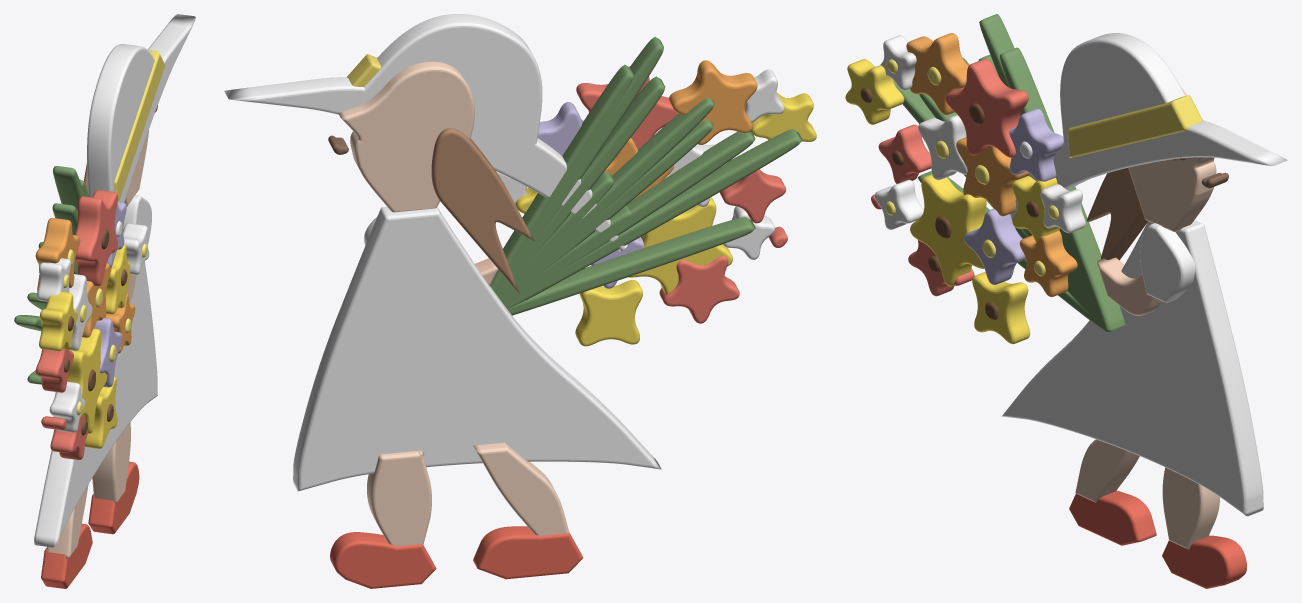
File: Girl.glb
3 views of the same model, side by side, from view 1: azimuth 30°, elevation 25°; view 2: azimuth 150°, elevation 25°; view 3: azimuth 270°, elevation 25° (orthographic). The views are drawn at different scales.
Visible parts, largest first — view 1: Girl_Dress, Girl_HatDome, Flower_2_Petals, Girl_HatBrim, Flower_3_Petals, Girl_LegFront, Flower_14_Petals, Girl_ShoeFront, Girl_HatBand, Girl_ShoeBack, Flower_7_Petals, Flower_6_Petals (+18 smaller); view 2: Girl_Dress, Girl_Face, Girl_HatDome, Girl_HatBrim, Girl_Hair, Stem_4, Girl_LegFront, Stem_3, Girl_ShoeFront, Girl_ShoeBack, Girl_LegBack, Stem_8 (+17 smaller); view 3: Girl_Dress, Girl_HatDome, Girl_HatBrim, Girl_Face, Flower_3_Petals, Flower_2_Petals, Girl_HatBand, Girl_ShoeBack, Girl_Sleeve, Girl_ShoeFront, Stem_6, Girl_LegFront (+21 smaller).
Boxes of the visible parts, <box> form: Girl_Dress: <box>34,261,157,547</box>; Girl_HatDome: <box>87,44,161,201</box>; Flower_2_Petals: <box>75,190,117,286</box>; Girl_HatBrim: <box>119,14,195,202</box>; Flower_3_Petals: <box>67,328,107,433</box>; Girl_LegFront: <box>92,422,130,503</box>; Flower_14_Petals: <box>39,291,77,351</box>; Girl_ShoeFront: <box>88,461,139,534</box>; Girl_HatBand: <box>114,50,165,201</box>; Girl_ShoeBack: <box>41,523,92,588</box>; Flower_7_Petals: <box>35,218,80,292</box>; Flower_6_Petals: <box>35,349,73,392</box>; Girl_Dress: <box>293,207,661,491</box>; Girl_Face: <box>338,61,474,212</box>; Girl_HatDome: <box>357,14,542,165</box>; Girl_HatBrim: <box>224,77,627,251</box>; Girl_Hair: <box>431,128,534,293</box>; Stem_4: <box>507,217,755,315</box>; Girl_LegFront: <box>367,449,431,546</box>; Stem_3: <box>505,129,802,308</box>; Girl_ShoeFront: <box>330,532,436,588</box>; Girl_ShoeBack: <box>473,526,583,579</box>; Girl_LegBack: <box>473,442,569,535</box>; Stem_8: <box>503,131,755,303</box>; Girl_Dress: <box>1001,220,1263,516</box>; Girl_HatDome: <box>1060,33,1185,165</box>; Girl_HatBrim: <box>1010,120,1287,219</box>; Girl_Face: <box>1128,88,1216,231</box>; Flower_3_Petals: <box>910,174,986,286</box>; Flower_2_Petals: <box>945,58,1028,157</box>; Girl_HatBand: <box>1068,95,1202,158</box>; Girl_ShoeBack: <box>1069,490,1156,545</box>; Girl_Sleeve: <box>1140,223,1195,302</box>; Girl_ShoeFront: <box>1162,535,1246,588</box>; Stem_6: <box>1000,47,1118,328</box>; Girl_LegFront: <box>1162,467,1219,549</box>.
Size of the model in its own units: 7.36 by 9.88 by 7.51.
